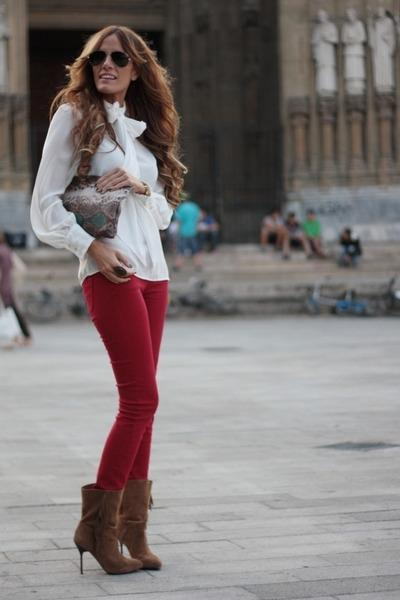bag: (60, 156, 120, 242)
pants: (84, 272, 166, 485)
shirt: (30, 101, 172, 280)
shoe: (74, 477, 160, 575)
sunglass: (110, 36, 135, 67)
